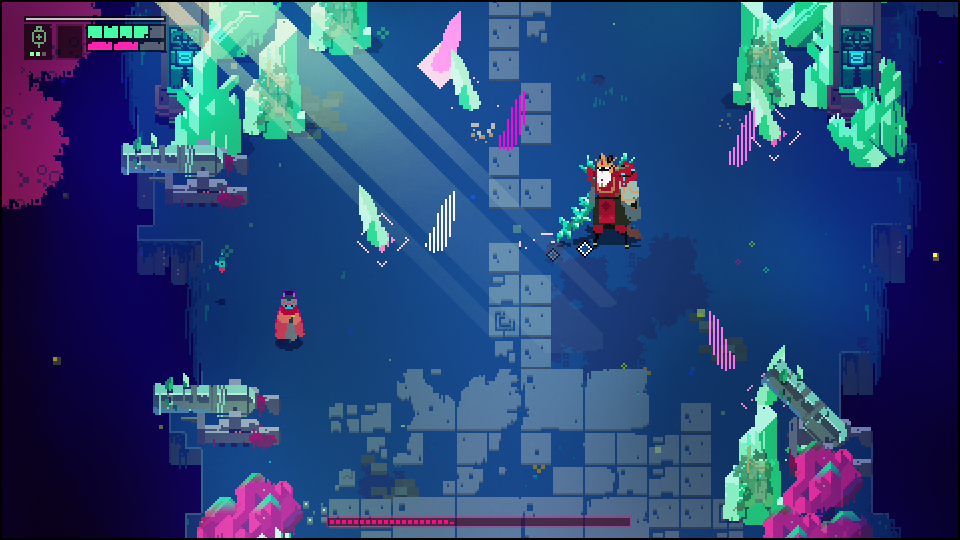hanged_crys: (424, 190, 458, 254), (356, 184, 390, 248), (448, 50, 482, 114), (494, 87, 528, 151), (428, 8, 462, 72), (722, 110, 756, 174), (750, 78, 784, 142), (704, 310, 738, 374), (757, 348, 791, 412)
hanged_man: (550, 153, 644, 254)
player: (272, 290, 308, 355)
